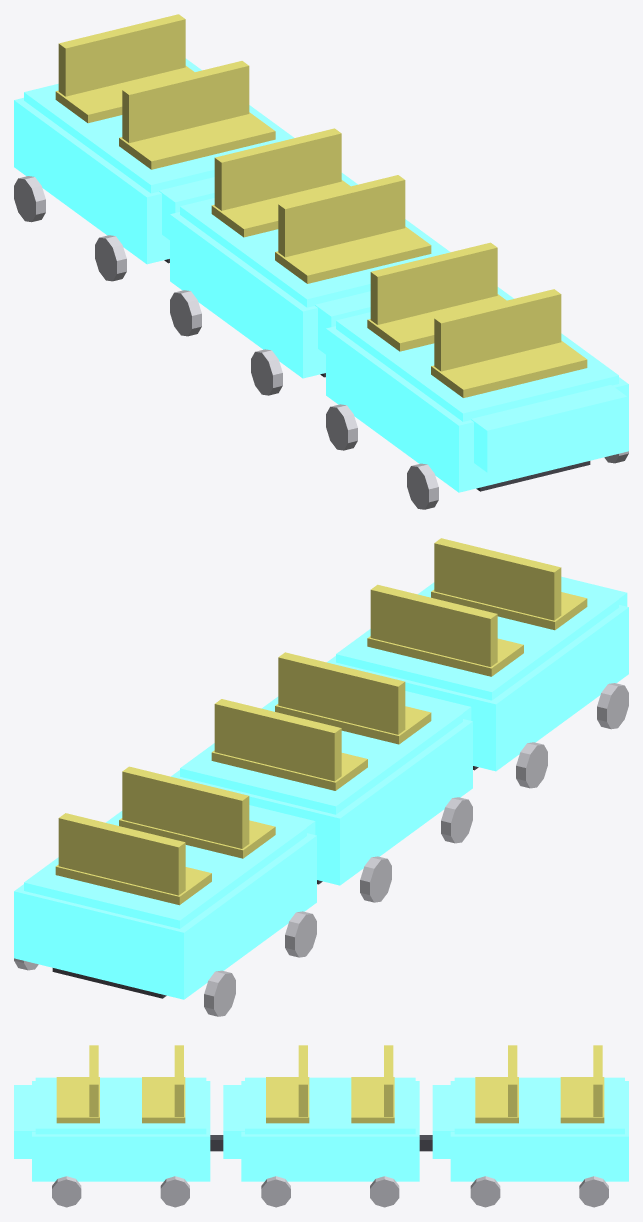
File: coaster_cart.glb
3 views of the same model, one above another, from view 1: azimuth 30°, elevation 25°; view 2: azimuth 150°, elevation 25°; view 3: azimuth 270°, elevation 25° (orthographic). The views are drawn at different scales.
Parts seen in each view (by area): view 1: car, seats, wheels; view 2: car, seats, wheels; view 3: car, seats, wheels, chassis.
Part boxes in pixels (x1=…): car: x1=14, y1=58, x2=628, y2=492; seats: x1=55, y1=14, x2=587, y2=397; wheels: x1=14, y1=176, x2=628, y2=509; car: x1=14, y1=576, x2=628, y2=999; seats: x1=55, y1=538, x2=587, y2=905; wheels: x1=14, y1=683, x2=628, y2=1016; car: x1=14, y1=1077, x2=628, y2=1181; seats: x1=56, y1=1045, x2=604, y2=1123; wheels: x1=52, y1=1176, x2=608, y2=1207; chassis: x1=210, y1=1135, x2=432, y2=1151.
Size of the model in its own units: 2 by 1.56 by 7.93.
